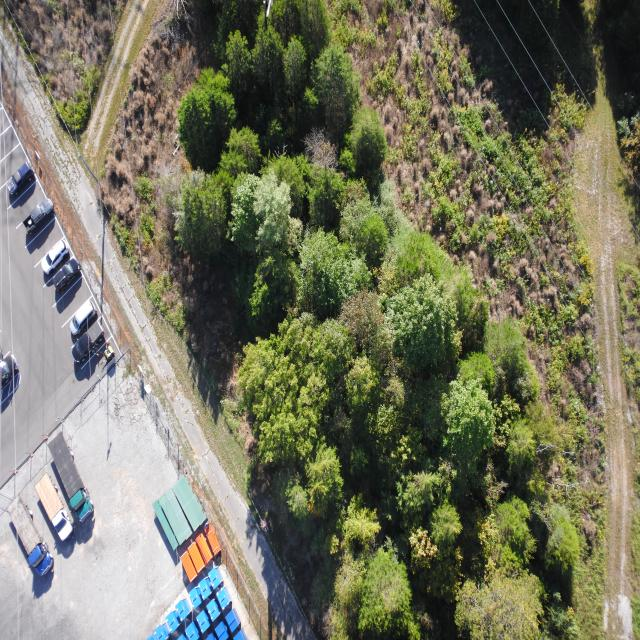Area of Interest: (188, 13, 561, 628)
